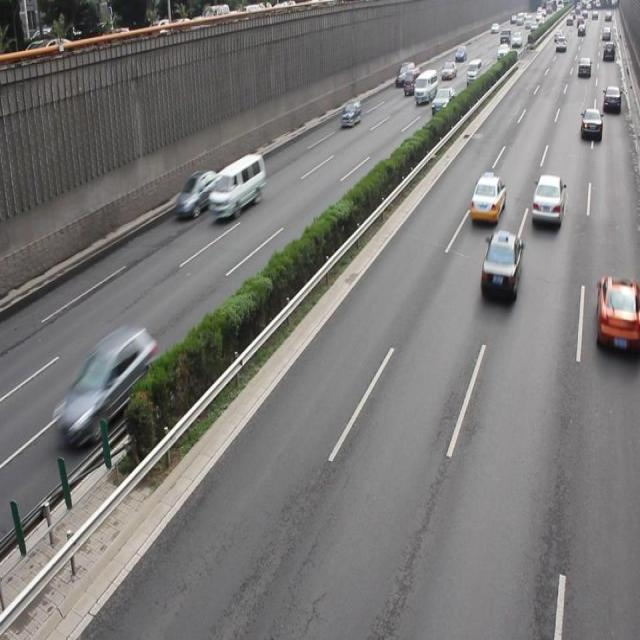car: (54, 327, 158, 445), (594, 273, 640, 355), (479, 230, 522, 299), (175, 167, 218, 217), (469, 173, 503, 226), (530, 172, 562, 227), (580, 106, 601, 138), (341, 99, 360, 125)
truck: (208, 152, 265, 218)
